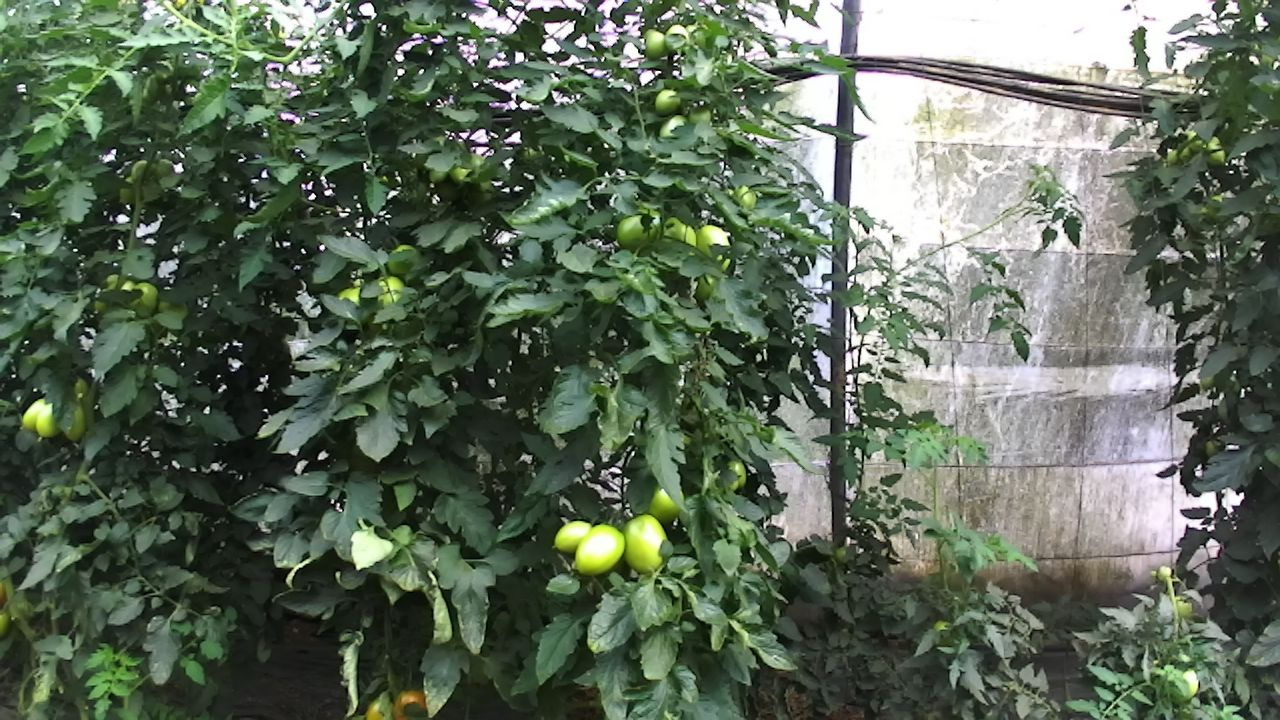tomato: (615, 510, 672, 579), (571, 522, 629, 578), (549, 517, 593, 556), (18, 392, 52, 434), (31, 400, 63, 441), (653, 87, 681, 118), (643, 28, 667, 61)
